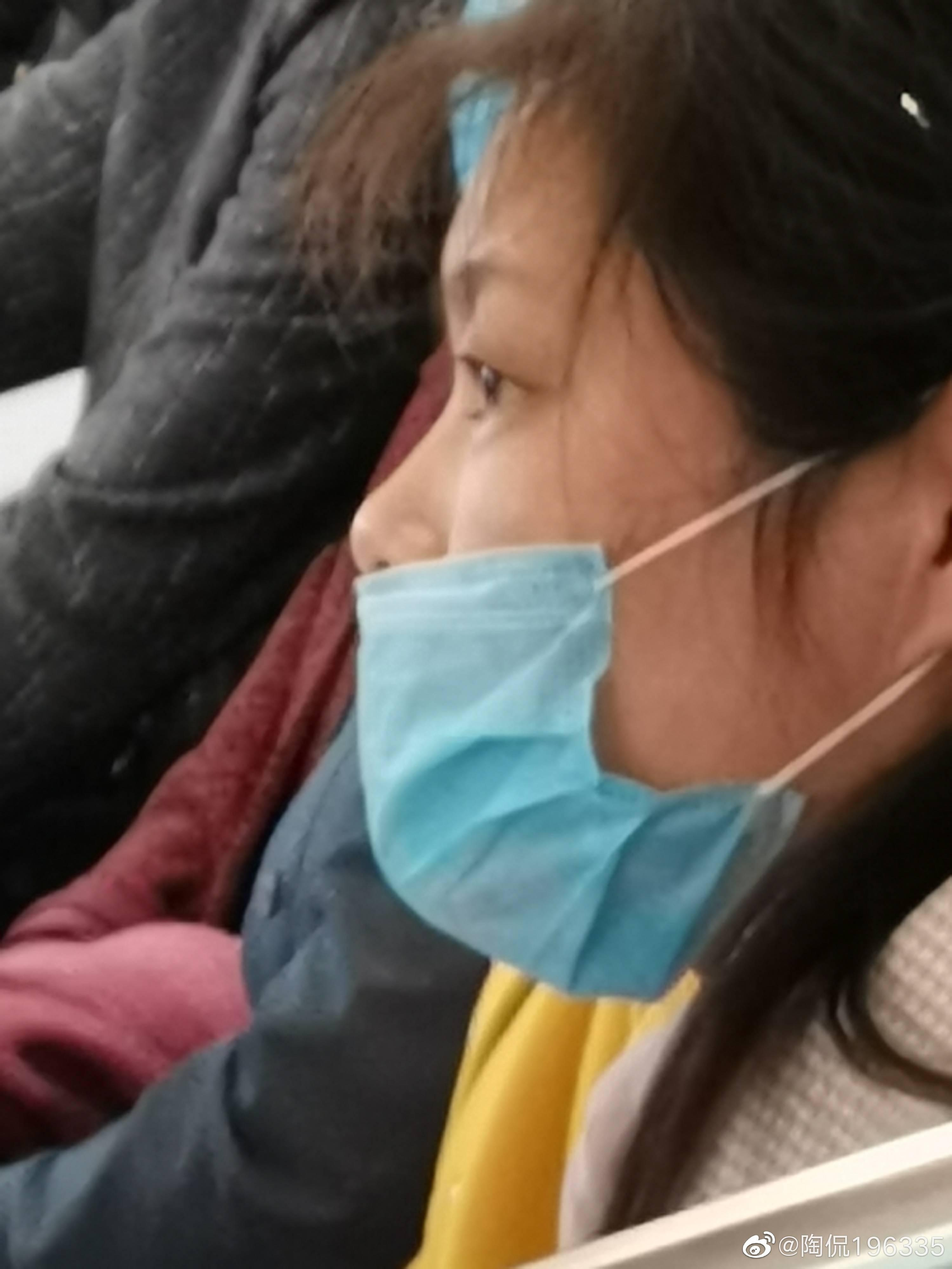WRONG: (338, 183, 797, 993)
